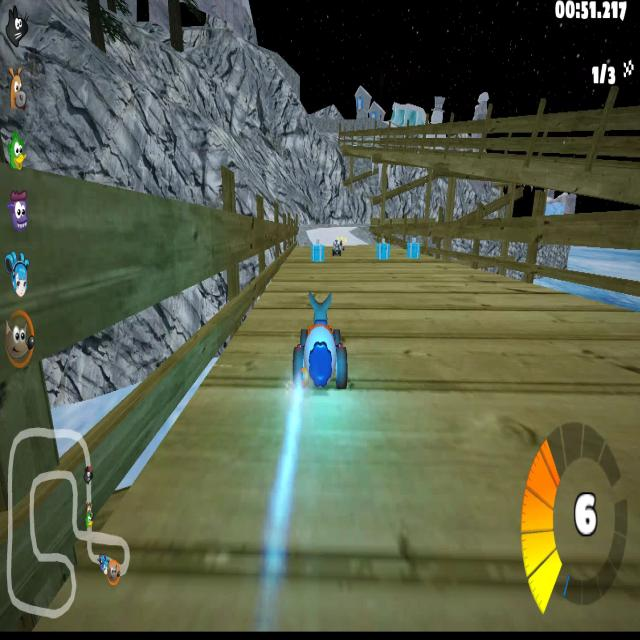bonus: (376, 235, 390, 265), (407, 235, 422, 261), (311, 241, 325, 263)
enemy_kart: (332, 235, 342, 257)
player_kart: (290, 290, 348, 390)
track: (194, 386, 640, 640), (356, 267, 640, 391), (131, 444, 196, 631), (227, 288, 289, 389), (344, 226, 376, 264), (310, 263, 362, 286), (284, 254, 310, 284), (308, 222, 349, 235), (339, 222, 360, 232)
